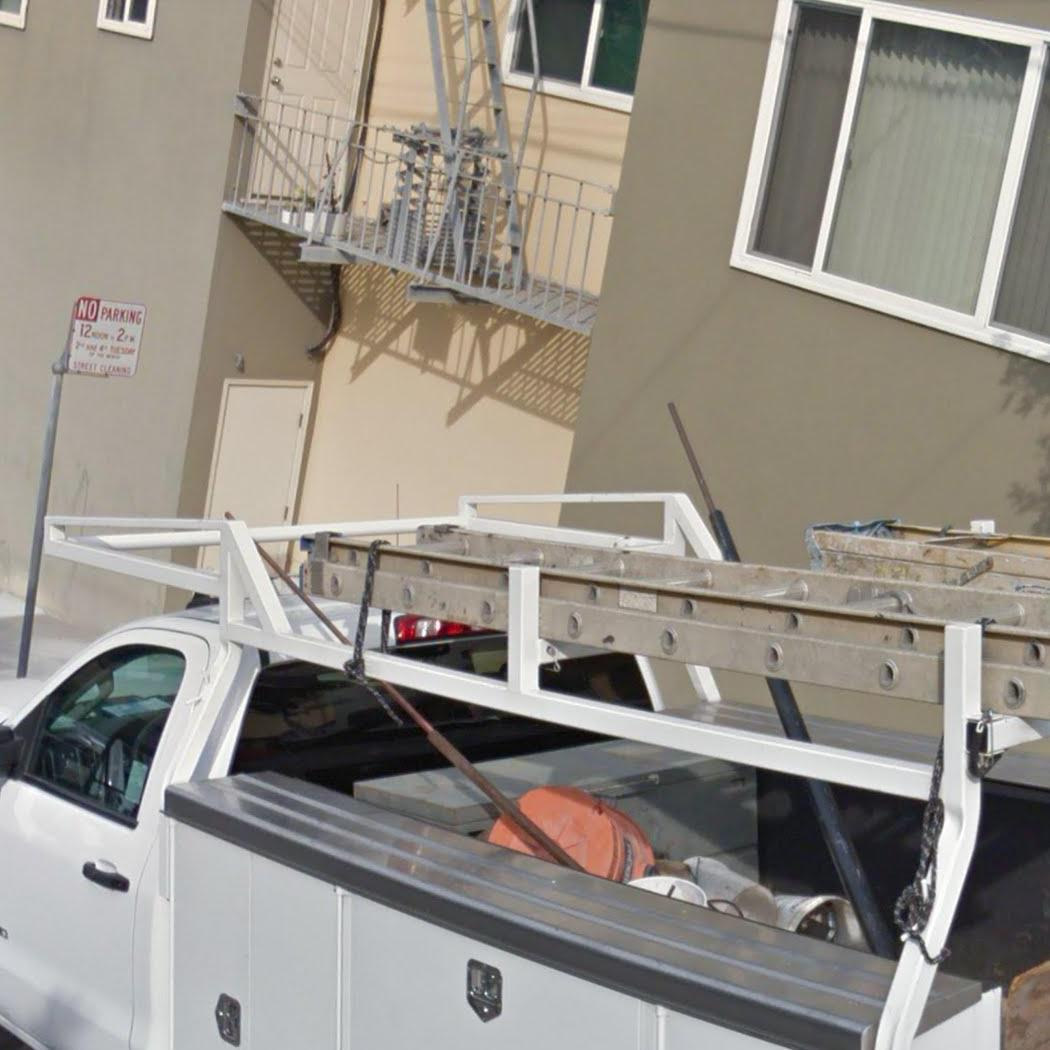No Parking: (61, 293, 150, 381)
